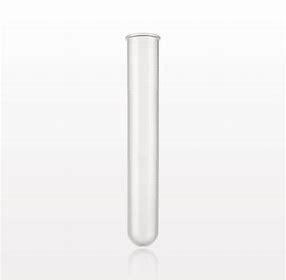Test tube: (118, 22, 168, 247)
